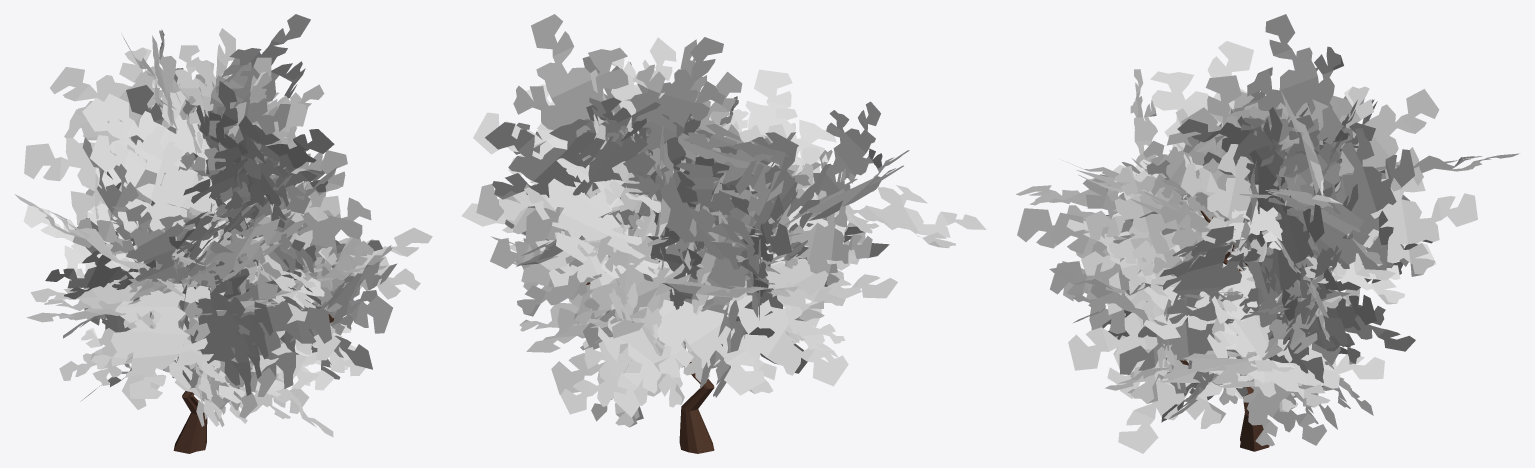
File: Bush 1.fbx
The picture shows the model from 3 angles, left to right: view 1: azimuth 30°, elevation 25°; view 2: azimuth 150°, elevation 25°; view 3: azimuth 270°, elevation 25°; orthographic projection. The views are drawn at different scales.
Parts seen in each view (by area): view 1: Branches, Trunk; view 2: Branches, Trunk; view 3: Branches, Trunk.
Boxes of the visible parts, x1=… form: Branches: x1=15, y1=14, x2=432, y2=437; Trunk: x1=173, y1=287, x2=333, y2=453; Branches: x1=461, y1=14, x2=986, y2=427; Trunk: x1=586, y1=282, x2=714, y2=453; Branches: x1=1016, y1=14, x2=1519, y2=453; Trunk: x1=1166, y1=210, x2=1289, y2=451.
Size of the model in its own units: 108 by 102 by 111.
